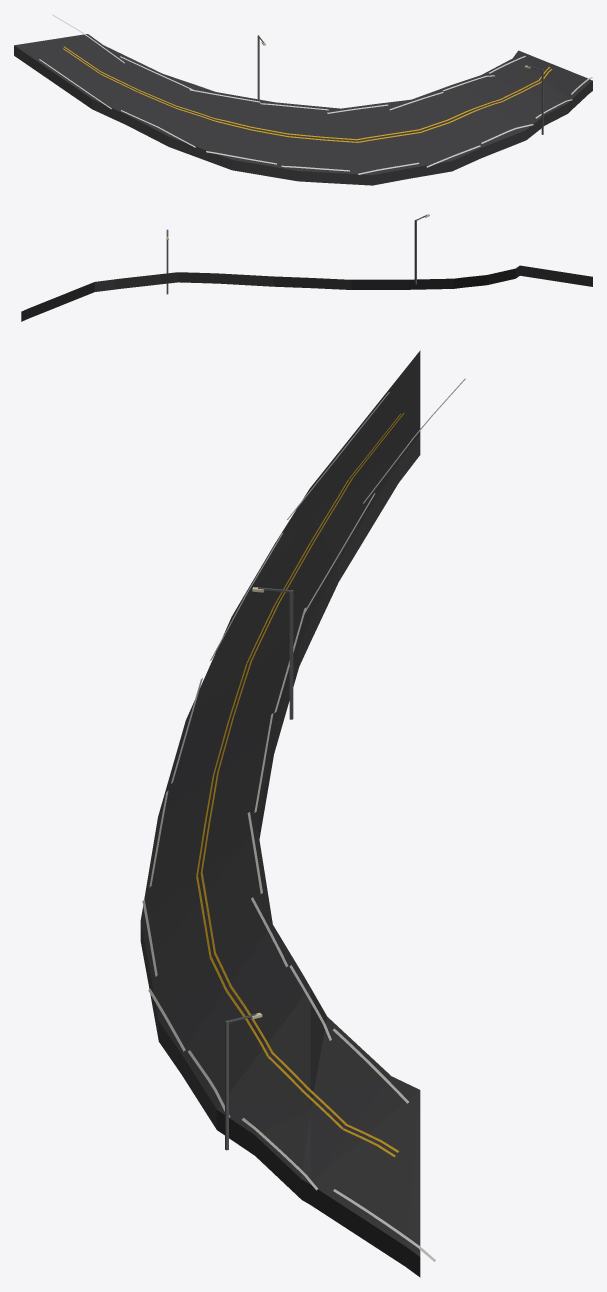
The picture shows the model from 3 angles, top to bottom: view 1: azimuth 30°, elevation 25°; view 2: azimuth 150°, elevation 25°; view 3: azimuth 270°, elevation 25°; orthographic projection. The views are drawn at different scales.
Bounding box in the file's own units: 70.39 × 22.76 × 17.25.
